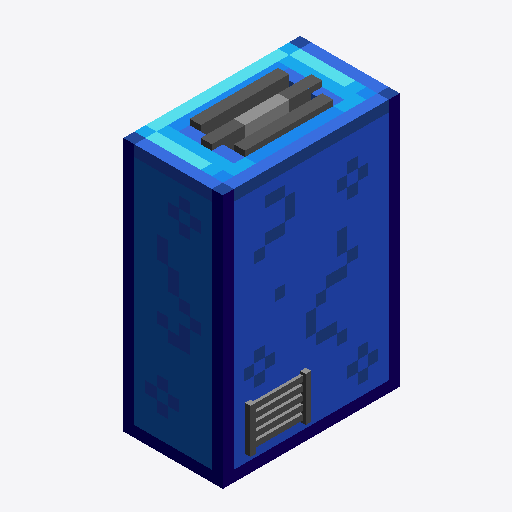
A Minecraft block model of 25 cuboids, rendered isometrically (azimuth 45°, elevation 35.3°) with the resource pack's own textures.
Parts seen in each view (by area): element 2, element 4, element 6, element 13, element 7, element 9, element 3, element 12, element 11, element 10, element 8, element 5 (+1 smaller).
Boxes of the visible parts, <box> form: element 2: <box>123,151,233,488</box>; element 4: <box>306,113,388,440</box>; element 6: <box>234,160,305,411</box>; element 13: <box>123,112,266,207</box>; element 7: <box>256,36,399,131</box>; element 9: <box>246,106,354,181</box>; element 3: <box>389,106,399,392</box>; element 12: <box>201,74,321,150</box>; element 11: <box>190,68,288,134</box>; element 10: <box>234,93,332,156</box>; element 8: <box>168,62,271,124</box>; element 5: <box>234,422,305,481</box>.
Bounding box in the file's own units: 16 × 23.5 × 11.